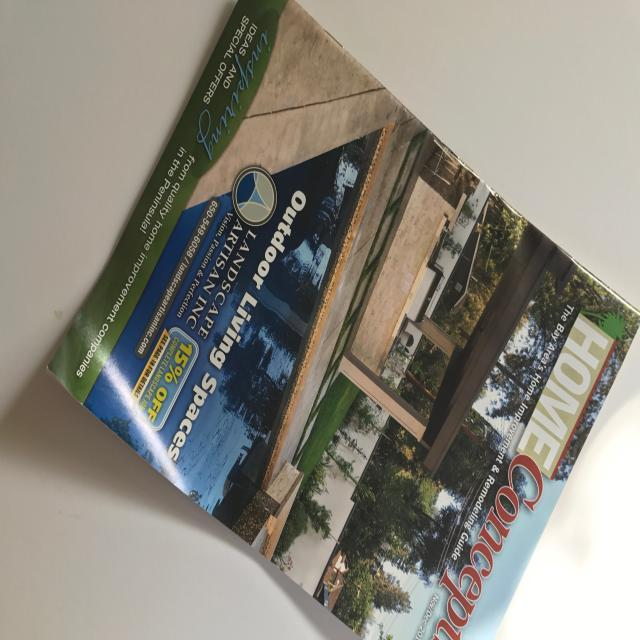paper: (45, 1, 640, 640)
